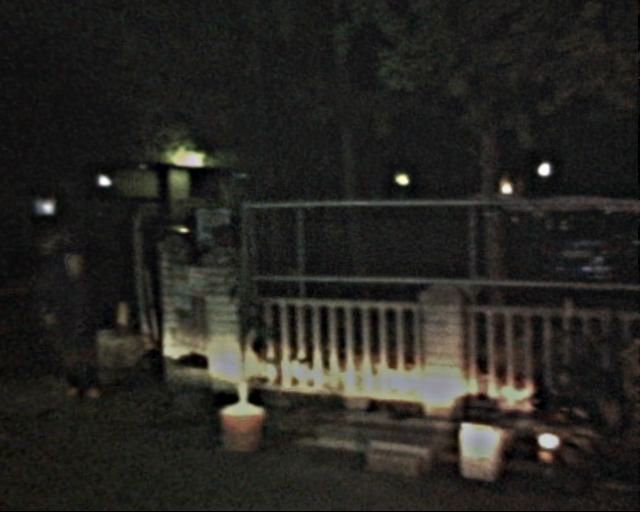person: (39, 240, 112, 403)
